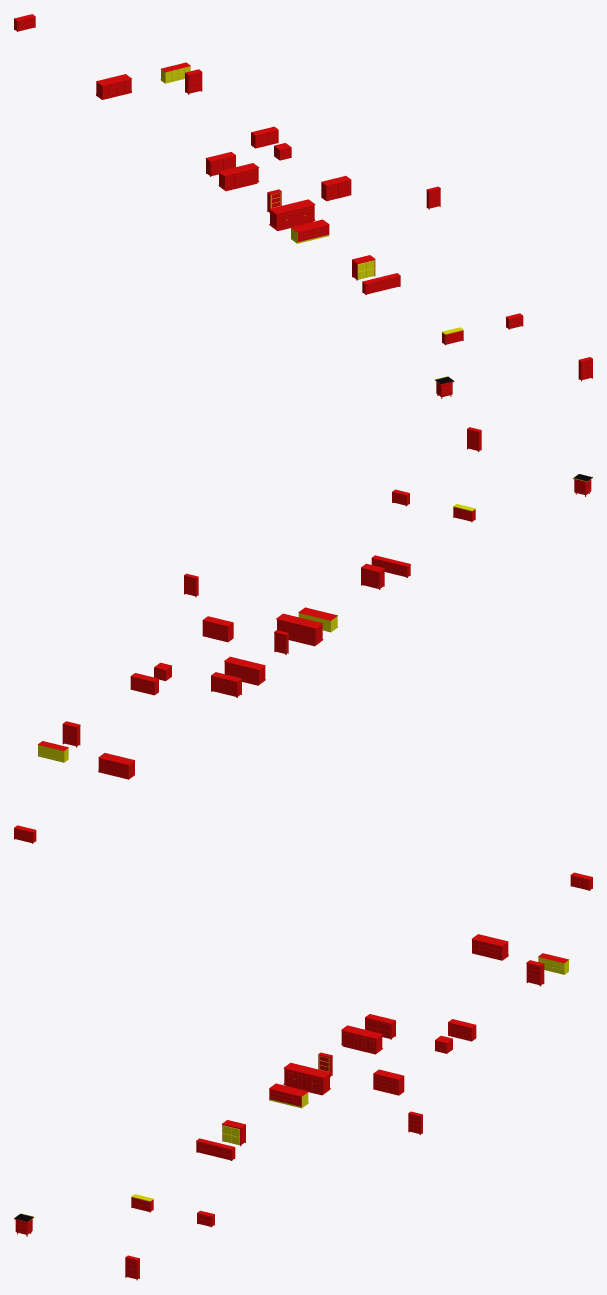
File: dressers_grp.fbx
3 renders of one model, top to bottom at view 1: azimuth 30°, elevation 25°; view 2: azimuth 150°, elevation 25°; view 3: azimuth 330°, elevation 25°, orthographic. The views are drawn at different scales.
Parts seen in each view (by area): view 1: dresser_219, dresser_217; view 2: dresser_219, dresser_217, dresser_224, dresser_315, dresser_218, dresser_213; view 3: dresser_219, dresser_217.
Boxes of the visible parts, box(x1,y1,x2,y2) form: dresser_219: box(269, 199, 315, 230); dresser_217: box(218, 163, 259, 191); dresser_219: box(276, 613, 323, 646); dresser_217: box(224, 656, 265, 685); dresser_224: box(98, 753, 134, 779); dresser_315: box(202, 616, 233, 642); dresser_218: box(211, 672, 241, 697); dresser_213: box(298, 607, 337, 632); dresser_219: box(283, 1062, 330, 1095); dresser_217: box(341, 1025, 383, 1054).
Bounding box in the file's own units: 1283 × 124 × 5635.
